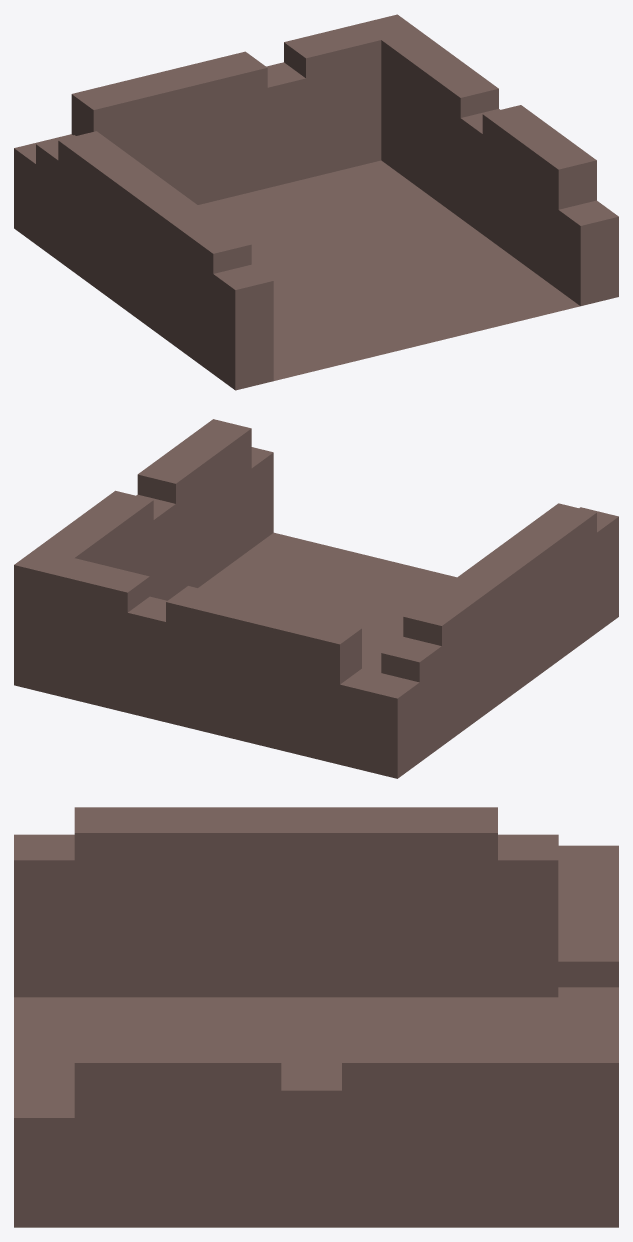
Rendered from ruina 4.fbx.
The picture shows the model from 3 angles, top to bottom: view 1: azimuth 30°, elevation 25°; view 2: azimuth 150°, elevation 25°; view 3: azimuth 270°, elevation 25°; orthographic projection. The views are drawn at different scales.
Parts seen in each view (by area): view 1: ruina 2; view 2: ruina 2; view 3: ruina 2.
Boxes of the visible parts, x1,y1,x2,y2 form: ruina 2: (14, 14, 618, 390); ruina 2: (14, 419, 618, 778); ruina 2: (14, 807, 618, 1227).
Bounding box in the file's own units: 1000 × 300 × 1000.
